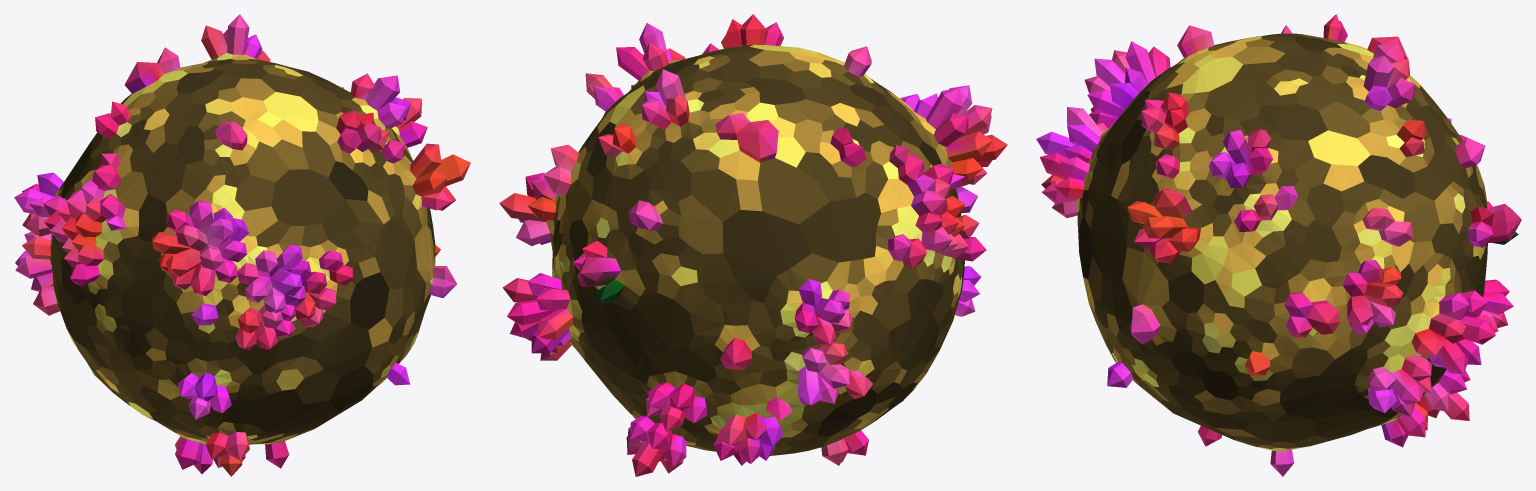
The model's file is Crystal_planet_22.fbx.
3 renders of one model, left to right at view 1: azimuth 30°, elevation 25°; view 2: azimuth 150°, elevation 25°; view 3: azimuth 270°, elevation 25°, orthographic. The views are drawn at different scales.
Visible parts, largest first — view 1: file6; view 2: file6; view 3: file6.
Part boxes in pixels (x1=…): file6: x1=14, y1=14, x2=470, y2=476; file6: x1=499, y1=14, x2=1007, y2=476; file6: x1=1036, y1=14, x2=1521, y2=476.
Size of the model in its own units: 2.33 by 2.23 by 2.35.
